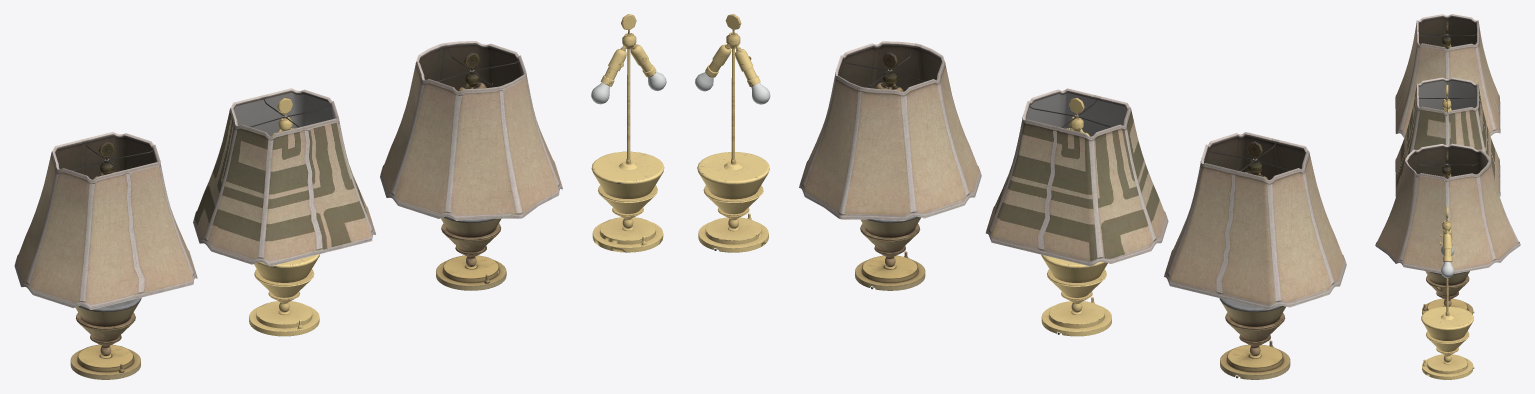
File: table_lamp.glb
3 views of the same model, side by side, from view 1: azimuth 30°, elevation 25°; view 2: azimuth 150°, elevation 25°; view 3: azimuth 270°, elevation 25° (orthographic). The views are drawn at different scales.
Visible parts, largest first — view 1: Object_4, Object_8; view 2: Object_4, Object_8; view 3: Object_4, Object_8.
Part boxes in pixels (x1,y1,x2,y2): Object_4: (14, 41, 562, 379); Object_8: (193, 14, 666, 336); Object_4: (799, 41, 1346, 379); Object_8: (695, 14, 1168, 336); Object_4: (1375, 14, 1520, 314); Object_8: (1395, 77, 1500, 379).
Size of the model in its own units: 1.71 by 0.5716 by 0.4637.
2 materials, 2 textured.
